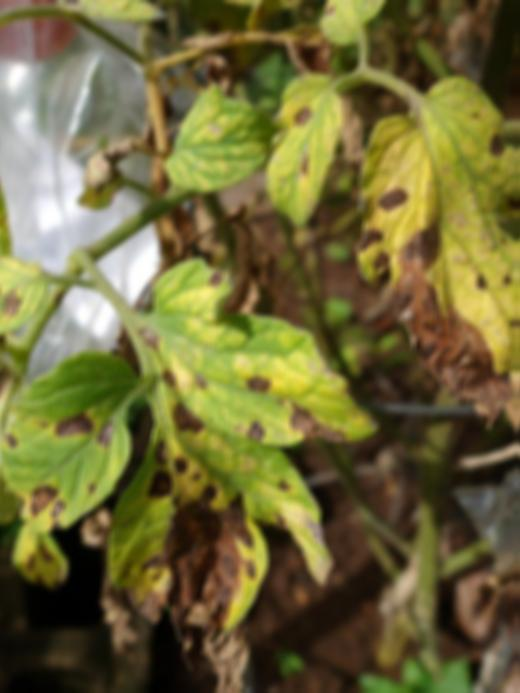Tomato leaf bacterial spot: (363, 54, 519, 447), (130, 263, 381, 450), (8, 350, 149, 535), (266, 73, 354, 223), (164, 85, 275, 192)
